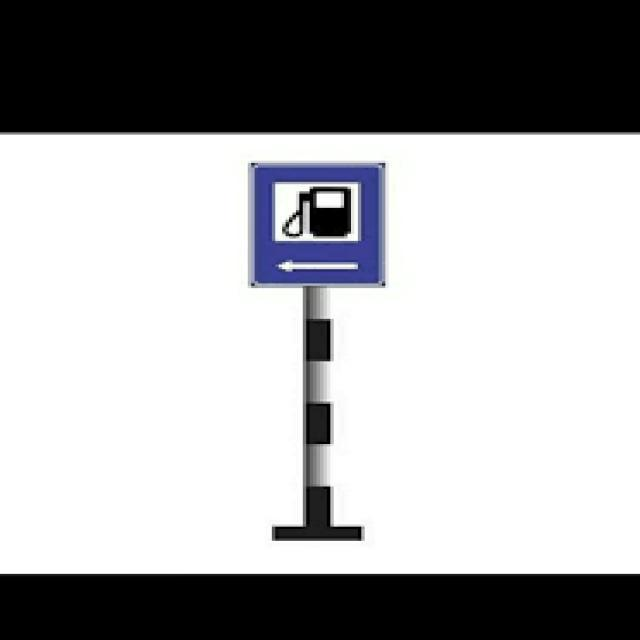petrol pump ahead: (258, 165, 382, 251)
